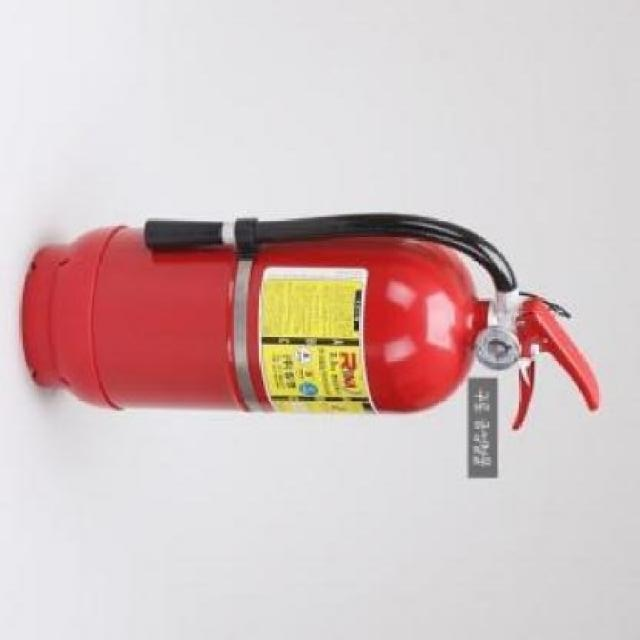fire extinguisher: (20, 214, 602, 432)
